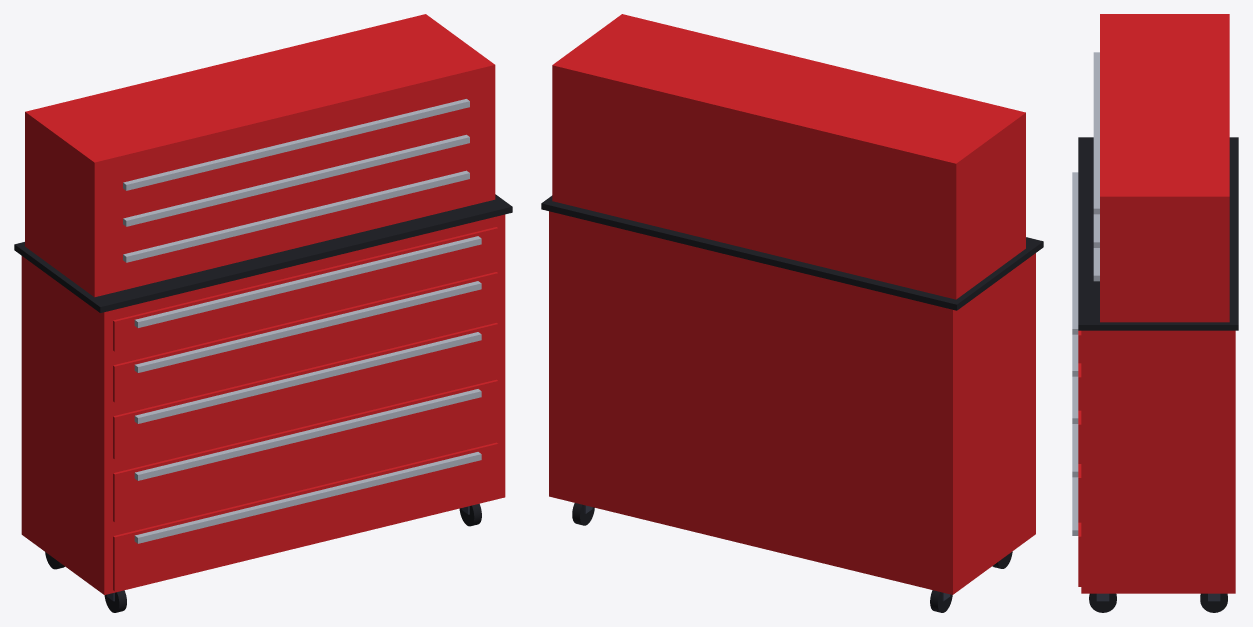
The model's file is air-009.glb.
3 views of the same model, side by side, from view 1: azimuth 30°, elevation 25°; view 2: azimuth 150°, elevation 25°; view 3: azimuth 270°, elevation 25° (orthographic). The views are drawn at different scales.
Parts seen in each view (by area): view 1: accent_red, steel, rubber; view 2: accent_red, rubber; view 3: accent_red, rubber, steel.
Boxes of the visible parts, left/top/right/bottom form: accent_red: left=21, top=14, right=505, bottom=594; steel: left=123, top=99, right=481, bottom=543; rubber: left=14, top=194, right=512, bottom=612; accent_red: left=549, top=14, right=1035, bottom=594; rubber: left=541, top=195, right=1043, bottom=612; accent_red: left=1078, top=14, right=1235, bottom=593; rubber: left=1078, top=137, right=1238, bottom=612; steel: left=1072, top=52, right=1099, bottom=535.
Bounding box in the file's own units: 1.44 × 1.52 × 0.54.
